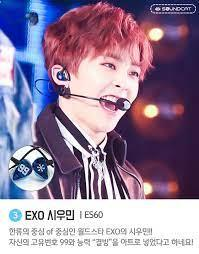earphone: (55, 71, 70, 83)
